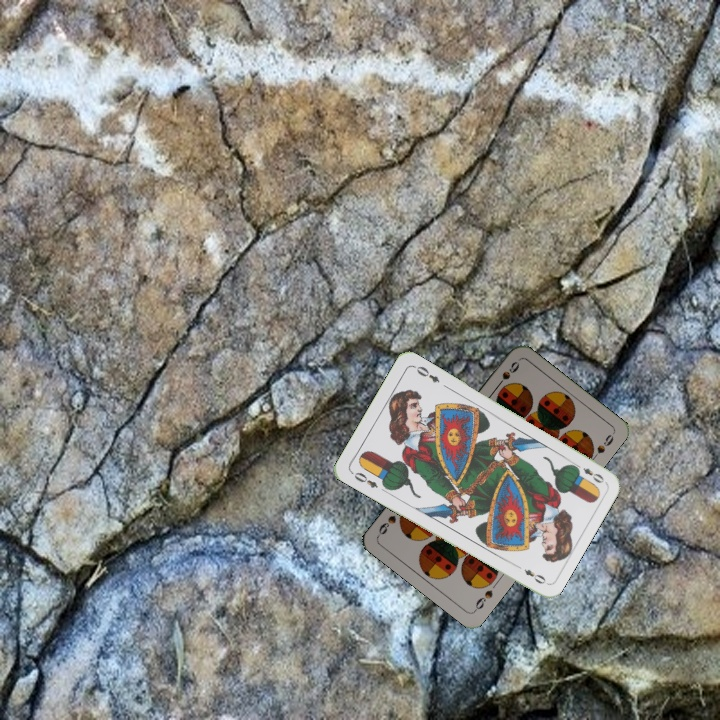EO: (570, 459, 607, 486), (347, 468, 381, 491)
S9: (491, 357, 522, 391), (470, 586, 496, 614)
